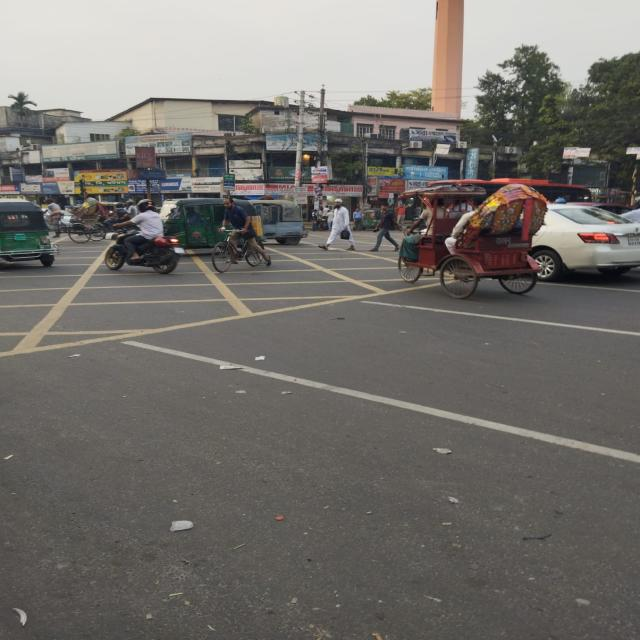person: (318, 199, 356, 251), (370, 202, 401, 252)
